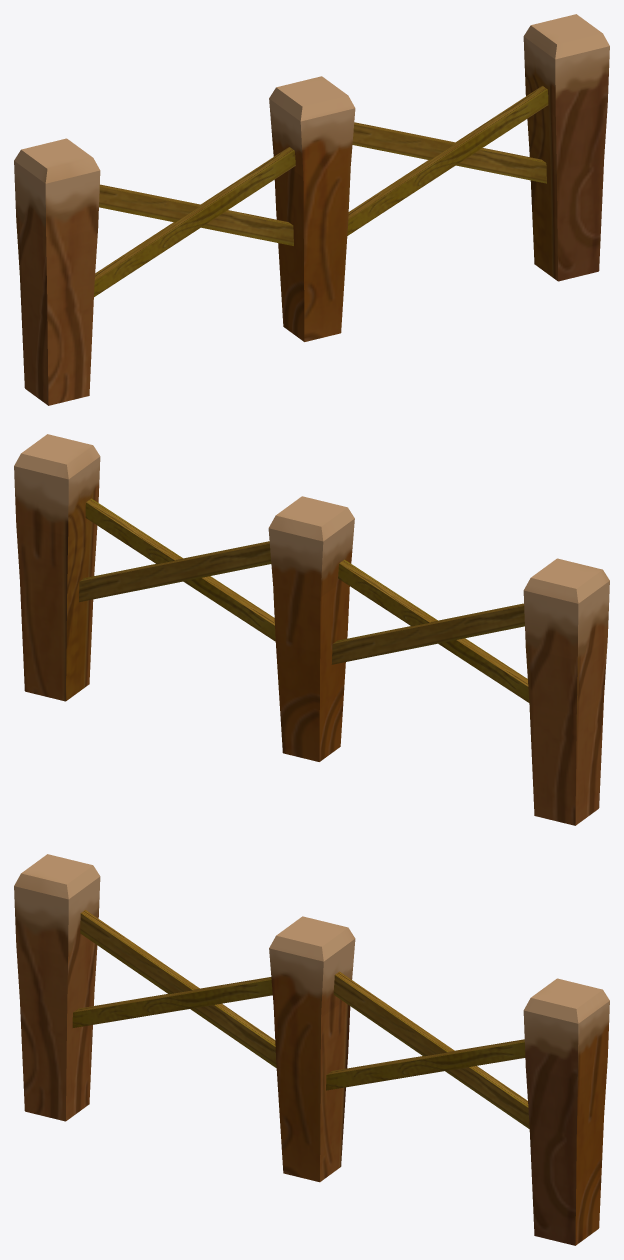
Rendered from Fence_05.FBX.
The picture shows the model from 3 angles, top to bottom: view 1: azimuth 30°, elevation 25°; view 2: azimuth 150°, elevation 25°; view 3: azimuth 330°, elevation 25°; orthographic projection.
Parts seen in each view (by area): view 1: fence_05; view 2: fence_05; view 3: fence_05.
Part boxes in pixels (x1,y1,x2,y2): fence_05: (14,14,609,405); fence_05: (14,434,609,825); fence_05: (14,854,609,1245).
Bounding box in the file's own units: 110 × 44.48 × 10.69.
